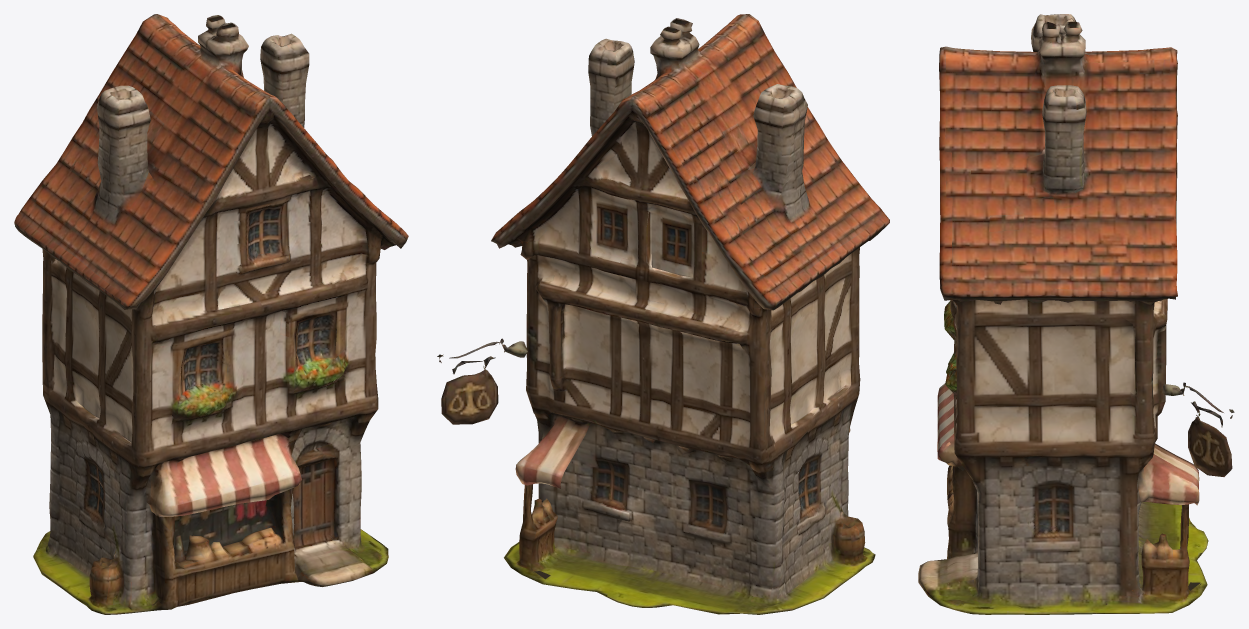
3 renders of one model, left to right at view 1: azimuth 30°, elevation 25°; view 2: azimuth 150°, elevation 25°; view 3: azimuth 270°, elevation 25°, orthographic.
Visible parts, largest first — view 1: tripo_node_fcede763-4c69-4212-83ad-ba804d41759b; view 2: tripo_node_fcede763-4c69-4212-83ad-ba804d41759b; view 3: tripo_node_fcede763-4c69-4212-83ad-ba804d41759b.
Boxes of the visible parts, bbox=[...] form: tripo_node_fcede763-4c69-4212-83ad-ba804d41759b: bbox=[14, 14, 408, 614]; tripo_node_fcede763-4c69-4212-83ad-ba804d41759b: bbox=[437, 14, 889, 614]; tripo_node_fcede763-4c69-4212-83ad-ba804d41759b: bbox=[918, 14, 1234, 614].
Size of the model in its own units: 0.6229 by 0.9783 by 0.5293.
Materials: 1 (1 with a texture image).
